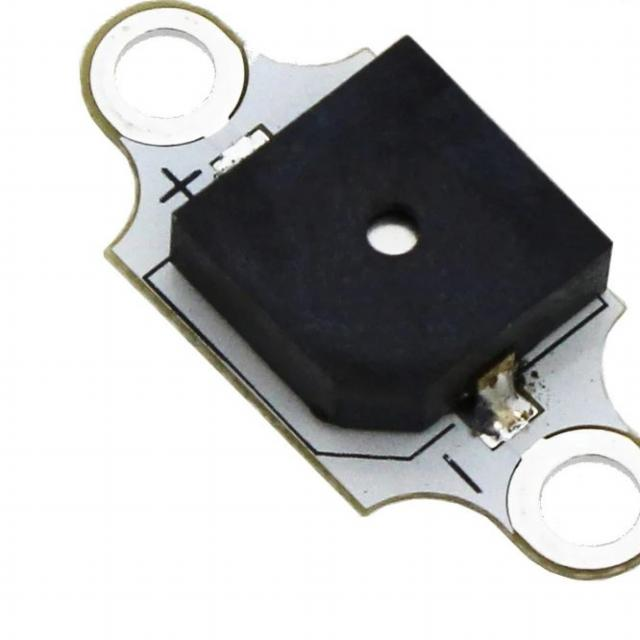buzzer: (149, 30, 631, 469)
